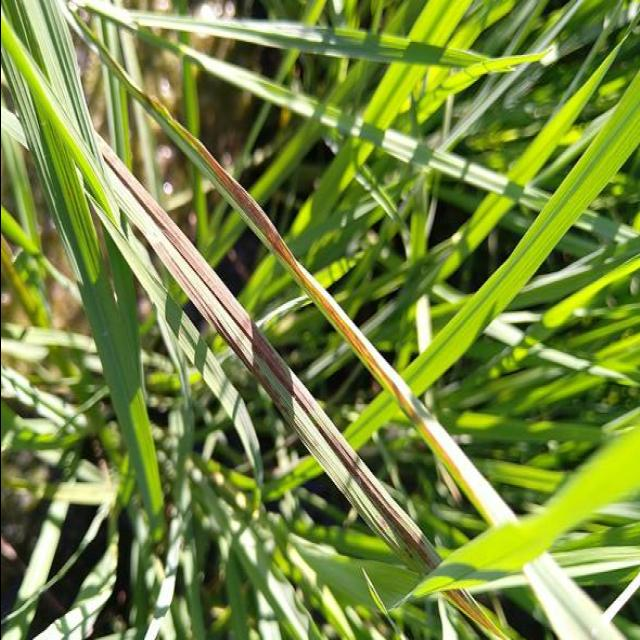Leaf Streak: (101, 155, 439, 568), (95, 42, 440, 442), (444, 589, 505, 640)
